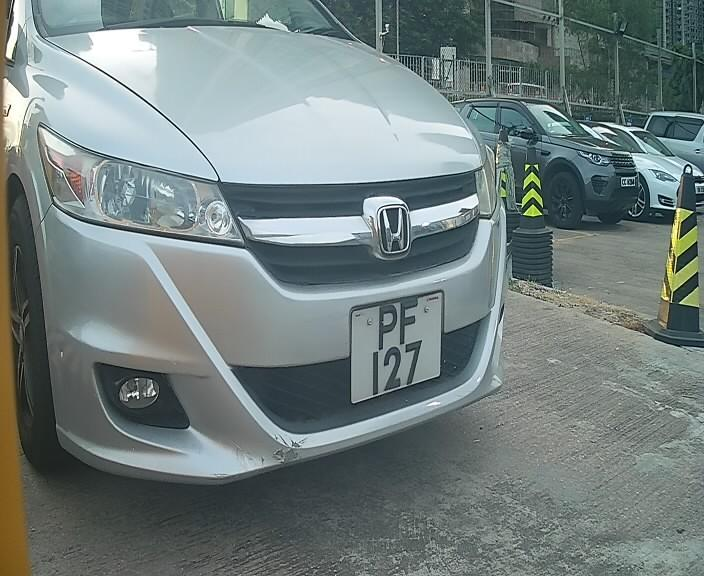privatecar: (7, 1, 518, 512)
